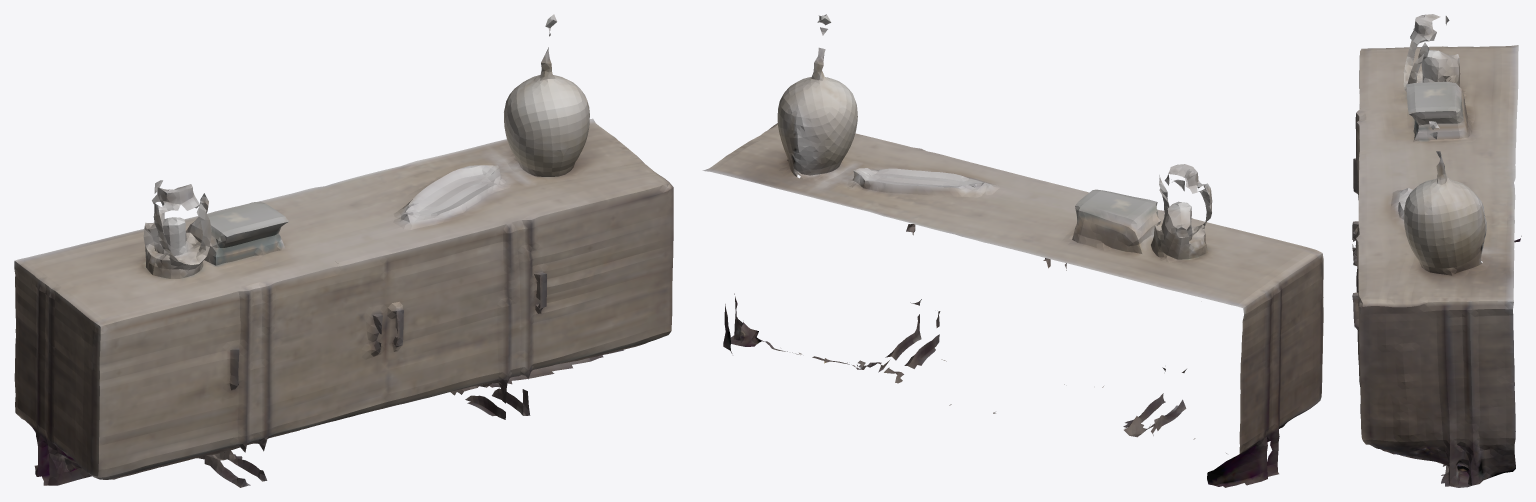
3 views of the same model, side by side, from view 1: azimuth 30°, elevation 25°; view 2: azimuth 150°, elevation 25°; view 3: azimuth 270°, elevation 25° (orthographic). The views are drawn at different scales.
Visible parts, largest first — view 1: world; view 2: world; view 3: world.
Boxes of the visible parts, x1,y1,x2,y2 form: world: (14, 14, 673, 487); world: (702, 14, 1323, 487); world: (1352, 14, 1521, 487).
Size of the model in its own units: 1 by 0.5945 by 0.2728.
